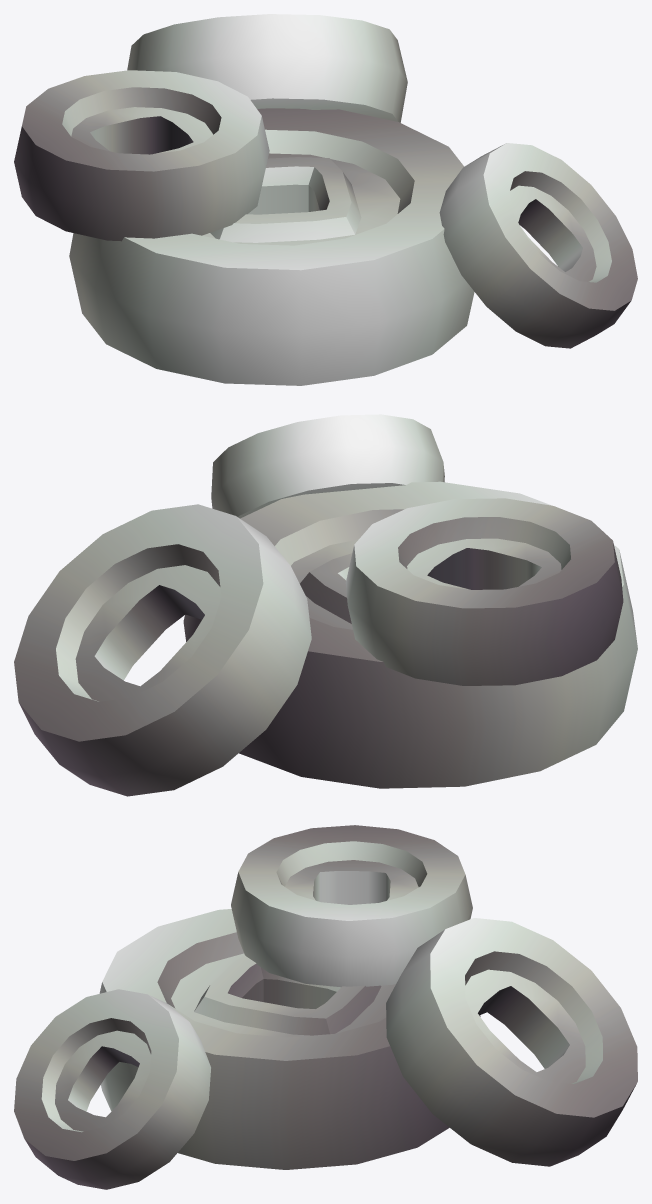
Rendered from Silver_Hole_Coin_04.glb.
3 views of the same model, one above another, from view 1: azimuth 30°, elevation 25°; view 2: azimuth 150°, elevation 25°; view 3: azimuth 270°, elevation 25° (orthographic). The views are drawn at different scales.
Parts seen in each view (by area): view 1: Silver_Hole_Coin_04; view 2: Silver_Hole_Coin_04; view 3: Silver_Hole_Coin_04.
Part boxes in pixels (x1=…): Silver_Hole_Coin_04: x1=14, y1=14, x2=637, y2=385; Silver_Hole_Coin_04: x1=14, y1=414, x2=637, y2=796; Silver_Hole_Coin_04: x1=14, y1=825, x2=637, y2=1189.
Bounding box in the file's own units: 0.4746 × 0.203 × 0.5767.
Materials: 1 (1 with a texture image).
